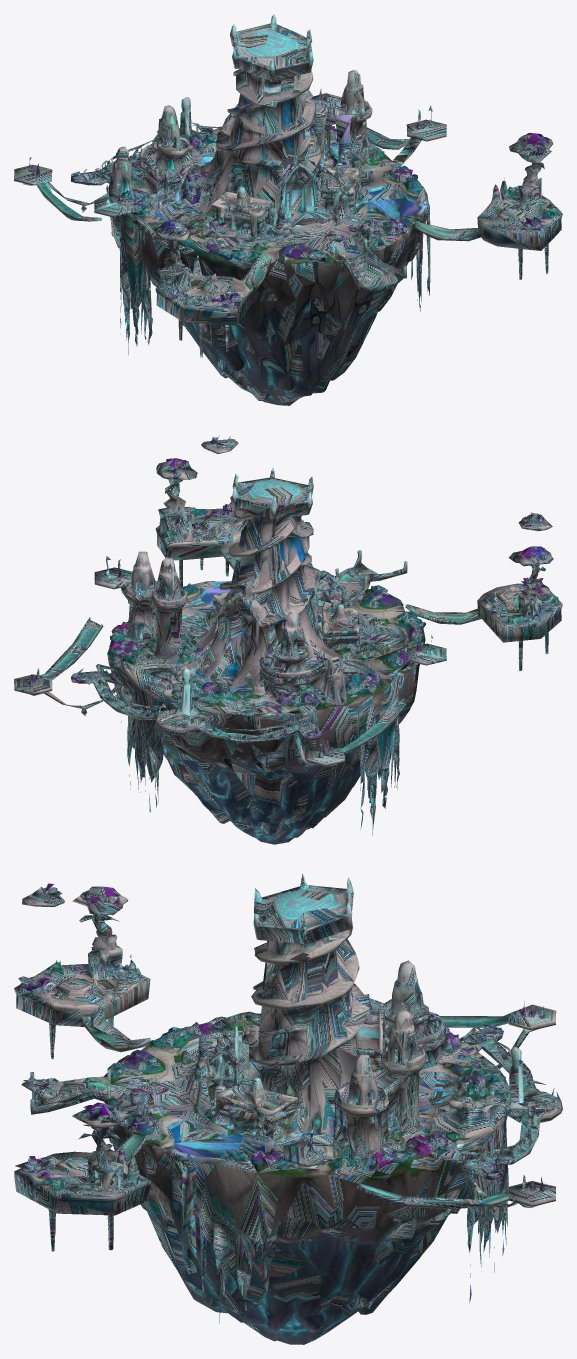
Rendered from Azure_Citadel_of_the_.glb.
3 renders of one model, top to bottom at view 1: azimuth 30°, elevation 25°; view 2: azimuth 150°, elevation 25°; view 3: azimuth 270°, elevation 25°, orthographic. The views are drawn at different scales.
Visible parts, largest first — view 1: Azure_Citadel_of_the_; view 2: Azure_Citadel_of_the_; view 3: Azure_Citadel_of_the_.
Part boxes in pixels (bbox=[...]): Azure_Citadel_of_the_: bbox=[14, 14, 562, 405]; Azure_Citadel_of_the_: bbox=[14, 435, 562, 844]; Azure_Citadel_of_the_: bbox=[14, 873, 562, 1344].
Bounding box in the file's own units: 1.9 × 1.7 × 1.86.
1 material, 1 textured.
